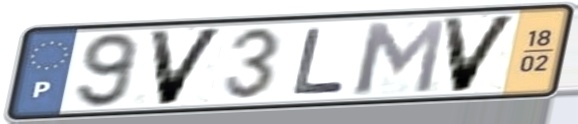3: (220, 25, 286, 103)
9: (73, 30, 141, 109)
L: (290, 25, 350, 98)
M: (351, 17, 450, 97)
V: (438, 12, 523, 95), (145, 25, 230, 108)
